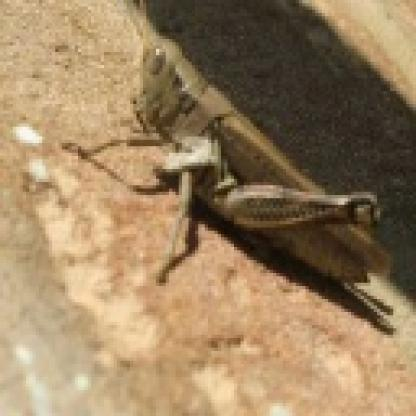grasshopper: (69, 4, 388, 297)
